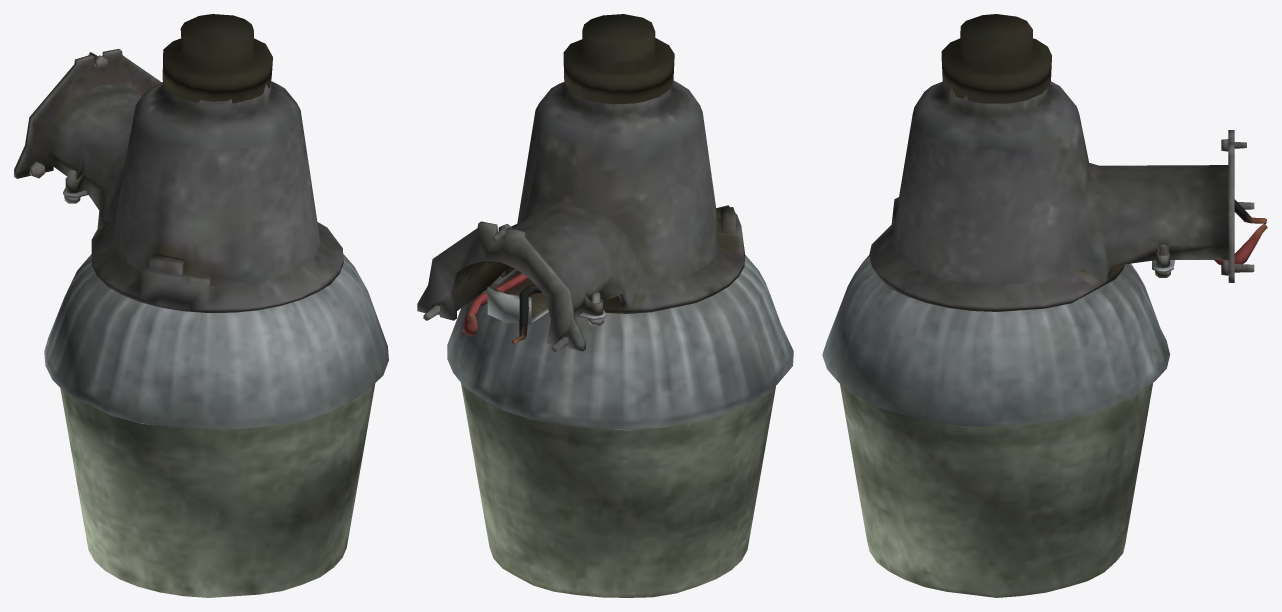
The model's file is security_light.glb.
3 renders of one model, left to right at view 1: azimuth 30°, elevation 25°; view 2: azimuth 150°, elevation 25°; view 3: azimuth 270°, elevation 25°, orthographic.
Parts seen in each view (by area): view 1: security_light, security_light_glass; view 2: security_light, security_light_glass; view 3: security_light, security_light_glass.
Boxes of the visible parts, box(x1,y1,x2,y2) form: security_light: box(14, 14, 388, 429); security_light_glass: box(60, 383, 375, 597); security_light: box(417, 14, 793, 430); security_light_glass: box(461, 383, 775, 597); security_light: box(822, 14, 1267, 426); security_light_glass: box(840, 383, 1152, 597).
Size of the model in its own units: 0.3232 by 0.531 by 0.4172.
2 materials, 2 textured.
